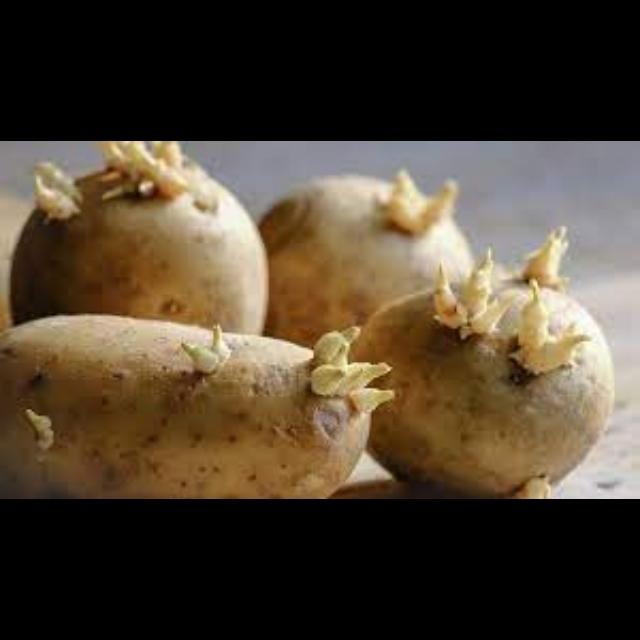Sprouted potato: (6, 312, 394, 500), (366, 227, 614, 499), (2, 143, 268, 339), (260, 168, 492, 358)
